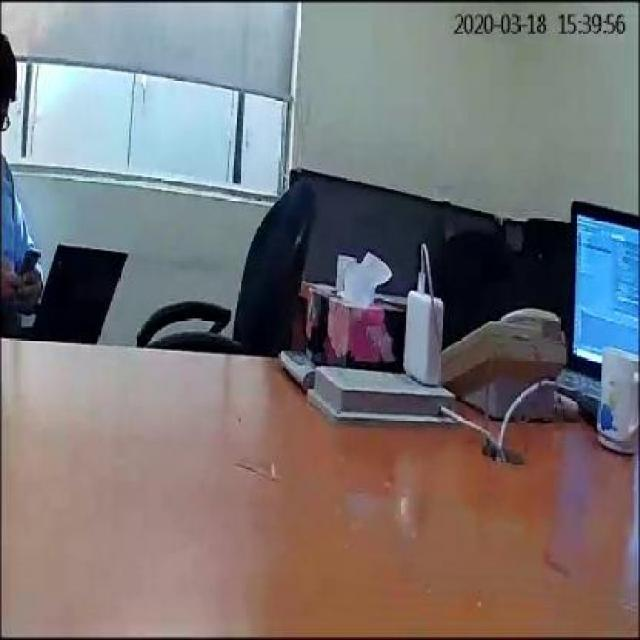spill: (334, 486, 572, 599)
